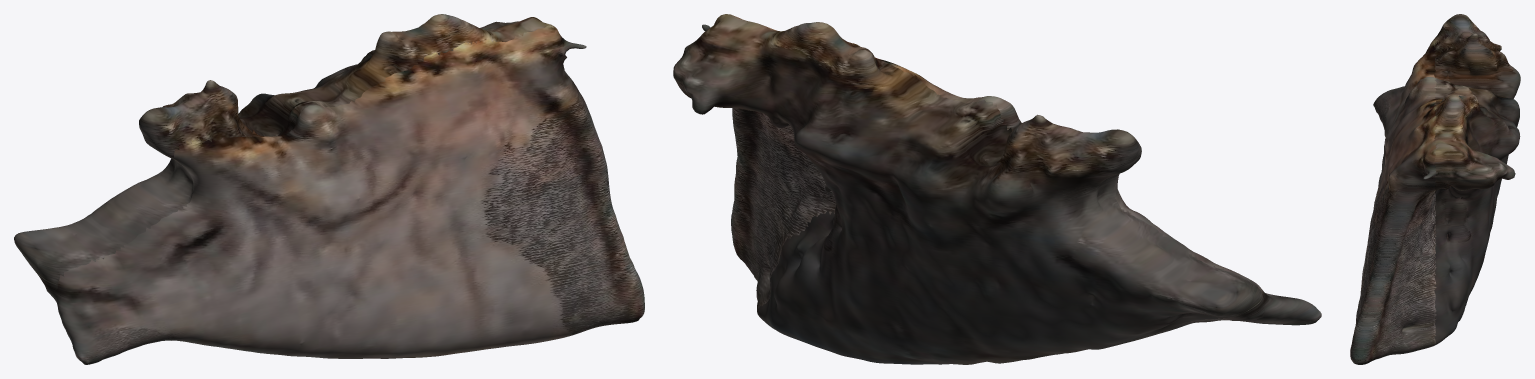
The model's file is kfl-2192.glb.
3 renders of one model, left to right at view 1: azimuth 30°, elevation 25°; view 2: azimuth 150°, elevation 25°; view 3: azimuth 270°, elevation 25°, orthographic. The views are drawn at different scales.
Parts seen in each view (by area): view 1: geometry_0; view 2: geometry_0; view 3: geometry_0.
Part boxes in pixels (x1,y1,x2,y2): geometry_0: (14, 14, 644, 364); geometry_0: (673, 14, 1321, 364); geometry_0: (1350, 14, 1520, 364).
Bounding box in the file's own units: 0.9892 × 0.5289 × 0.3503.
1 material, 1 textured.
